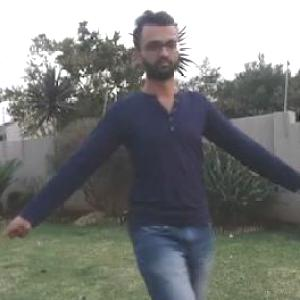land: (84, 78, 248, 278)
